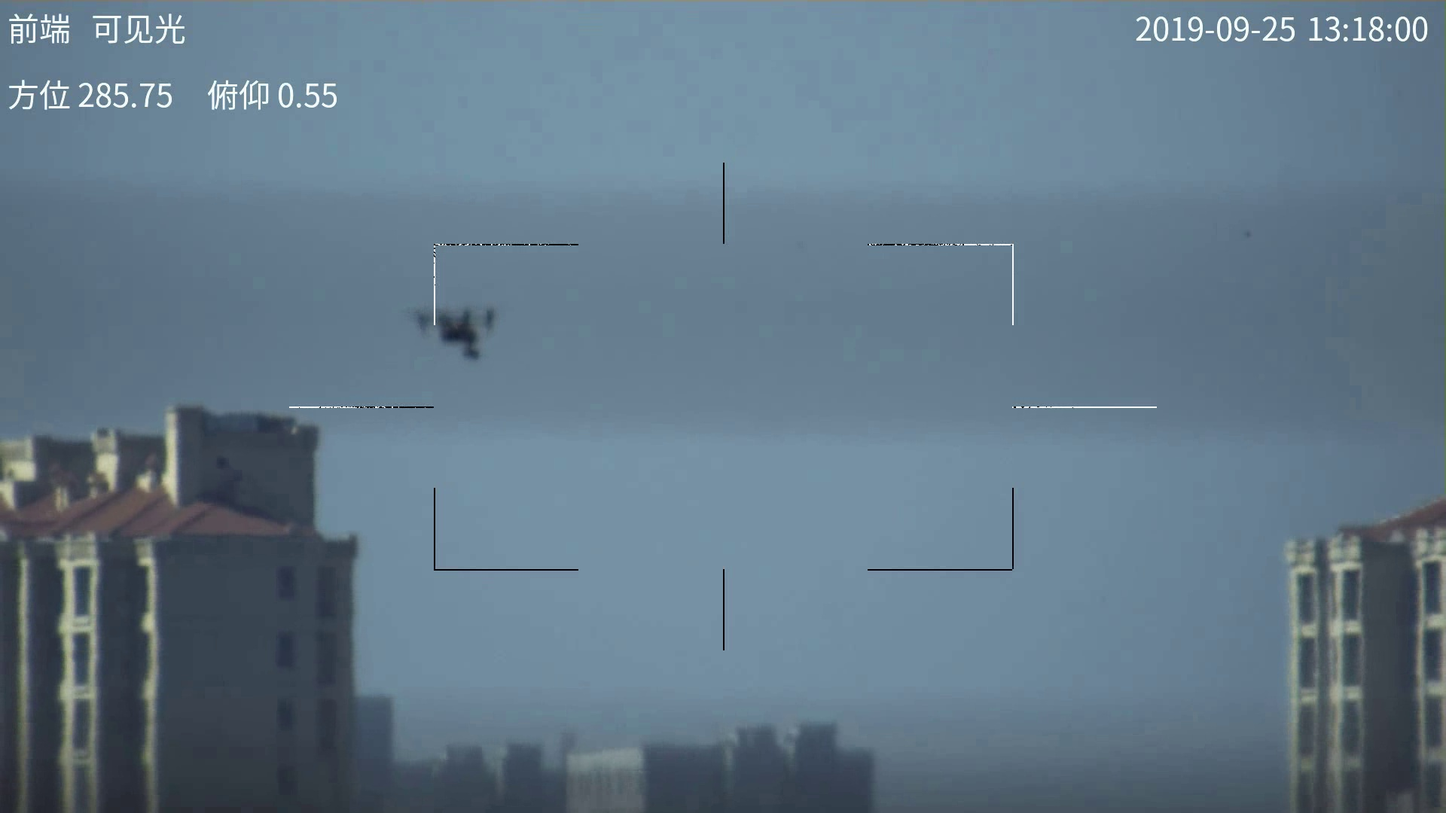drone: (413, 303, 505, 361)
